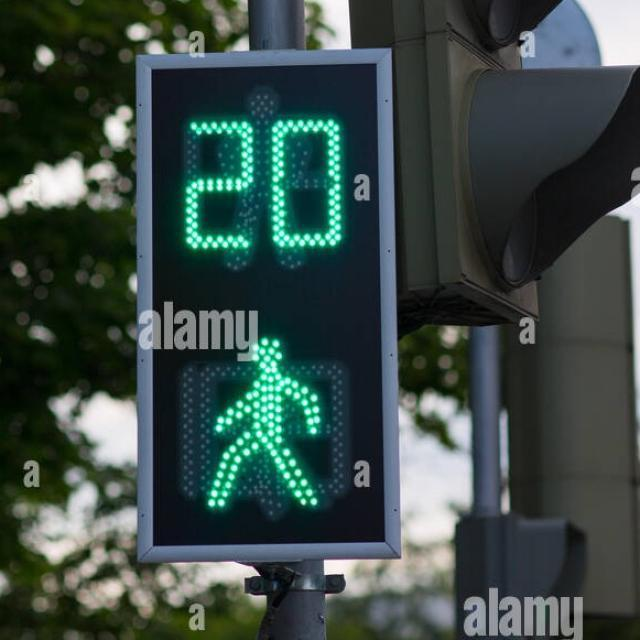geen-crossing: (214, 333, 320, 514)
